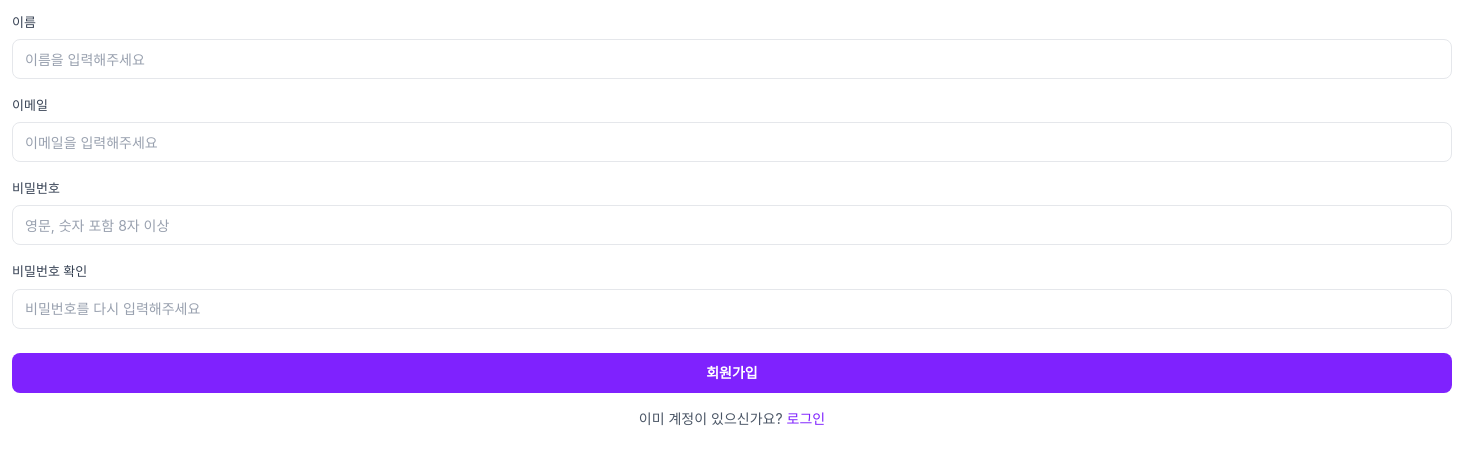
Scenario: SignupForm › 잘못된 이메일 형식 입력 후 blur 시 에러 메시지가 표시된다
The width and height of the screenshot is (1464, 469).
Type "not-an-email" into the field labelled "이메일".
click(732, 142); type("not-an-email")  # box left=12, top=122, right=1452, bottom=162
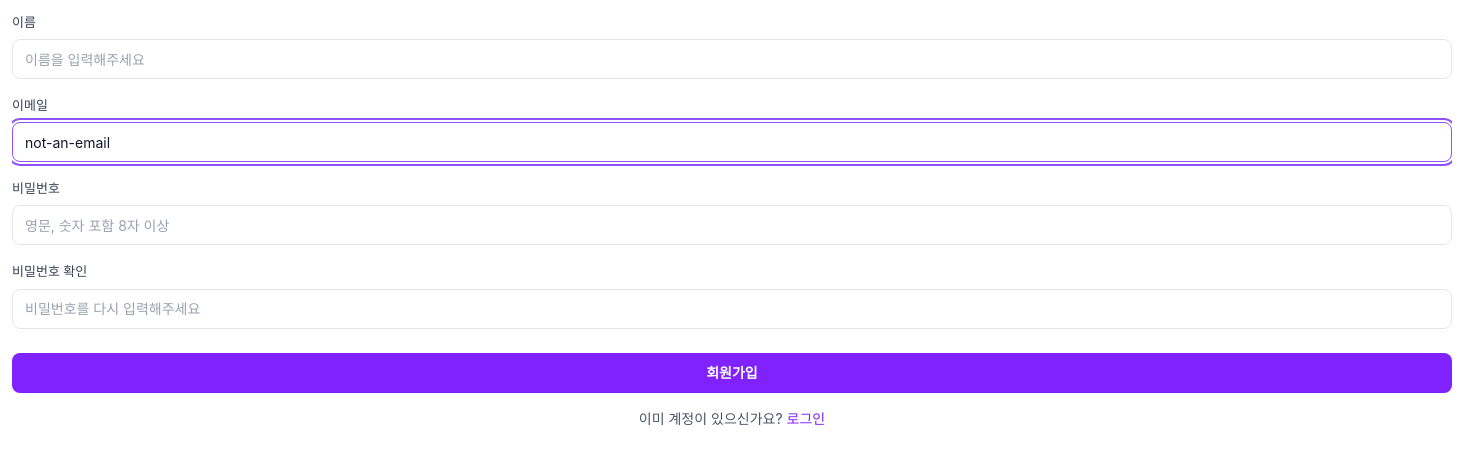
Press Tab
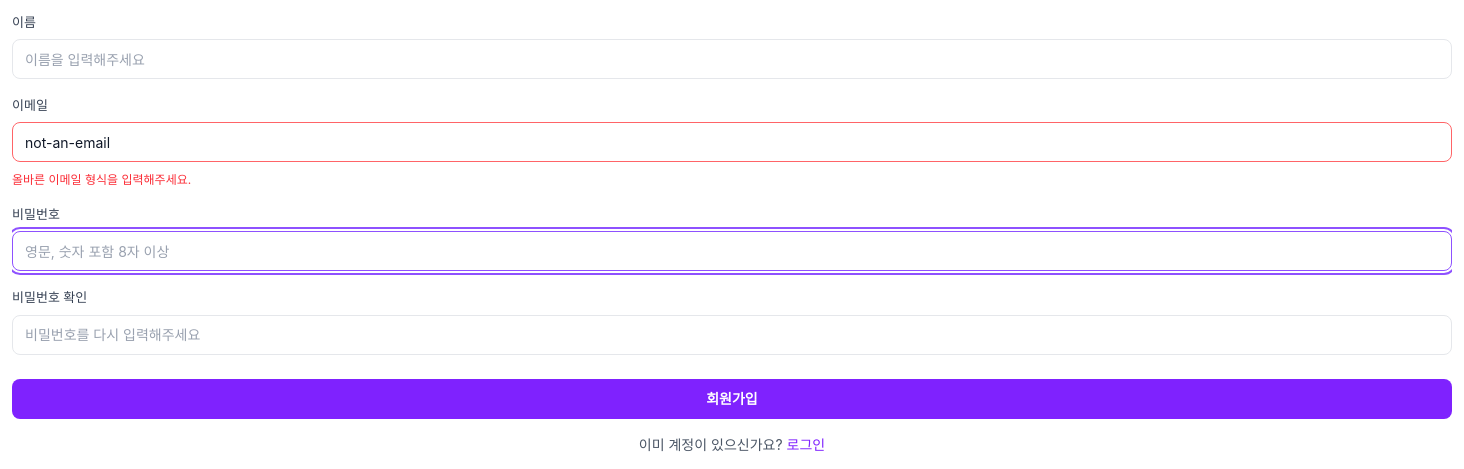
Check: the text "올바른 이메일 형식을 입력해주세요." is shown, box left=12, top=172, right=191, bottom=187
